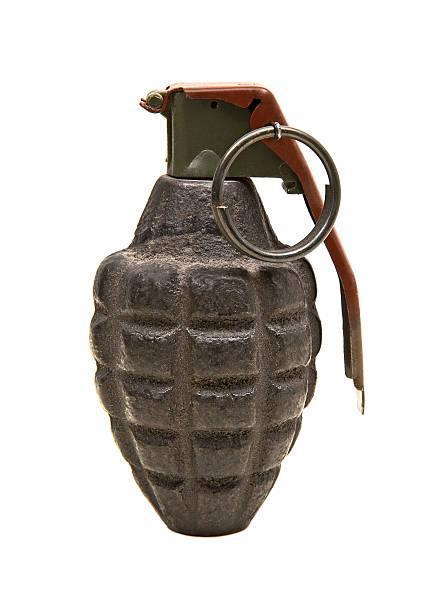Grenade: (88, 82, 366, 536)
